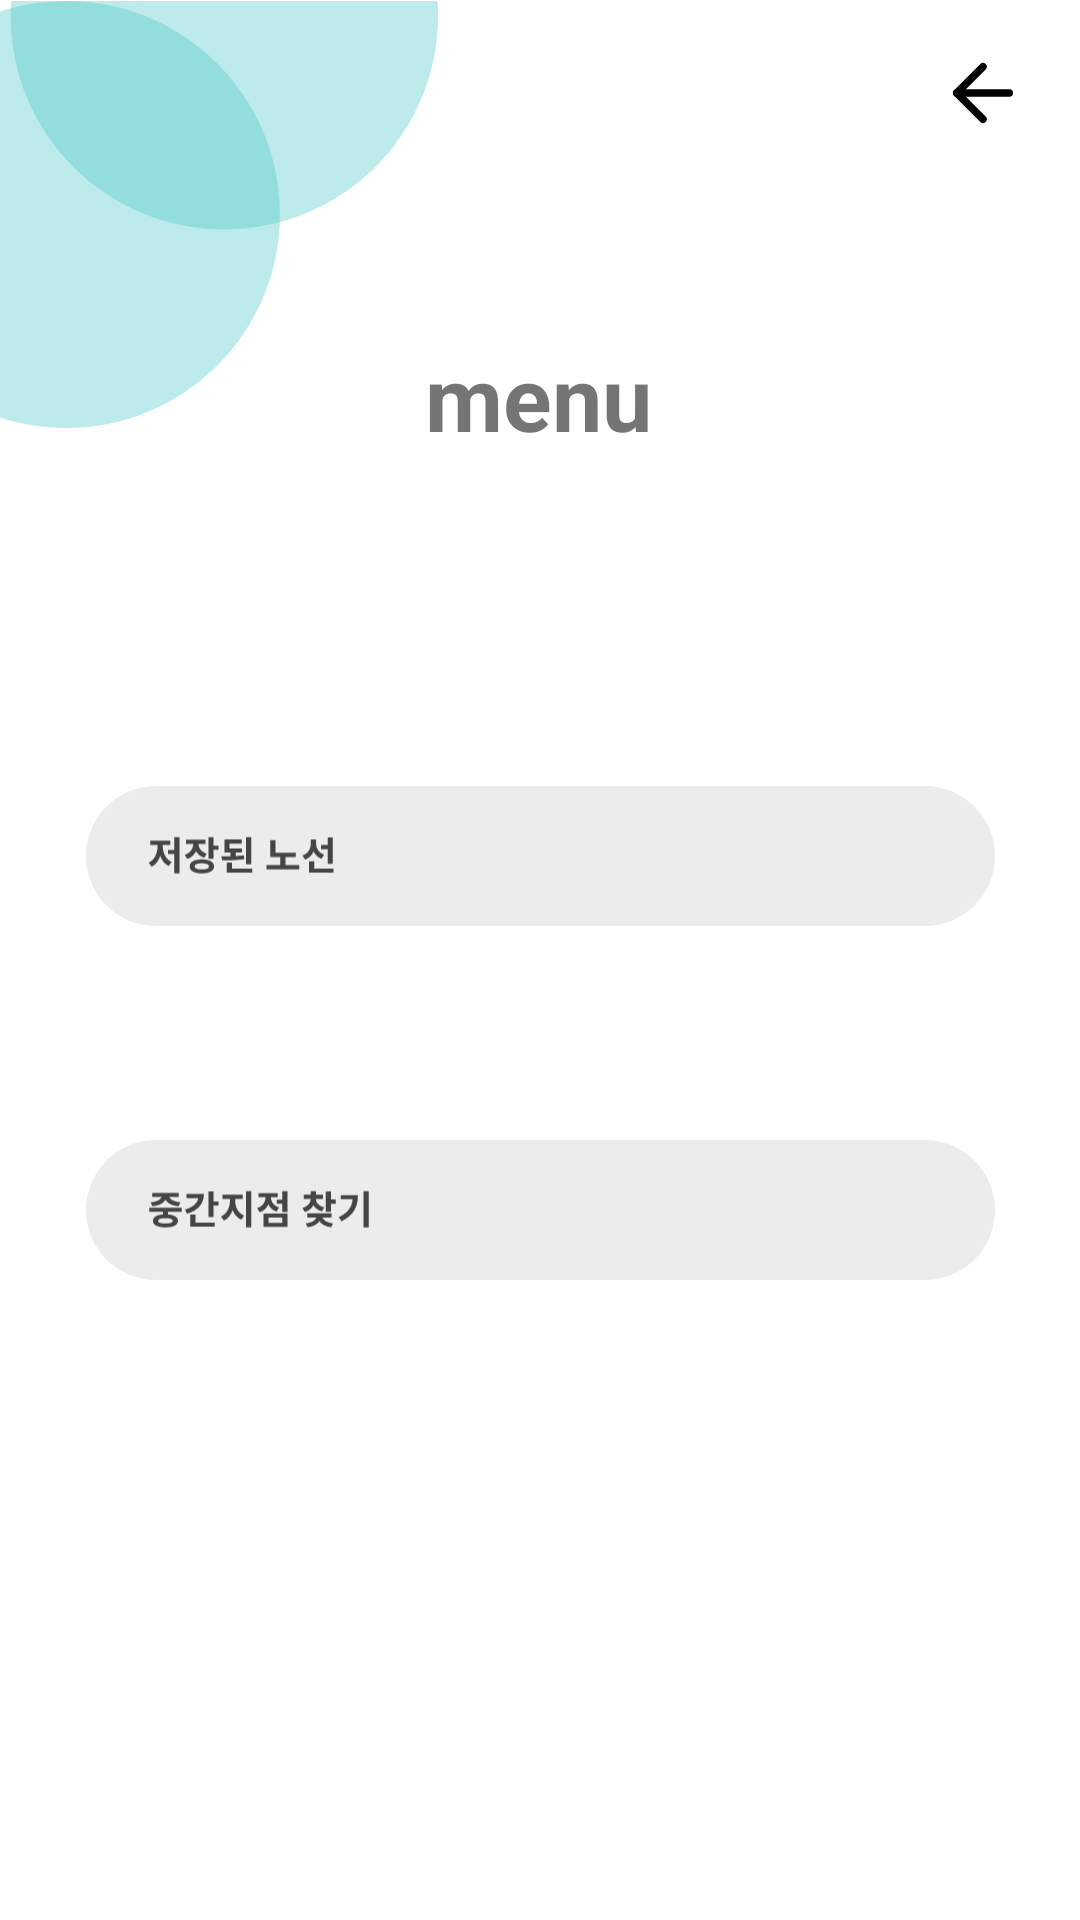

Icons on this 1080 x 1920 Android screen, each with its box as (x1, y1, x2, y2):
goback: (952, 62, 1013, 124)
